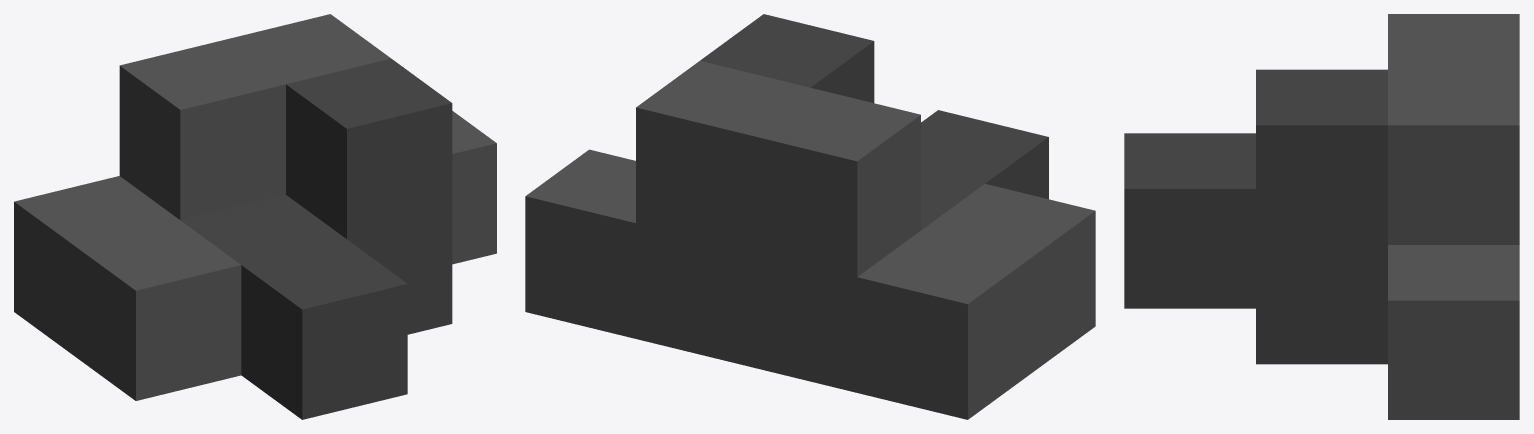
File: gather_rock_scnd.obj
3 views of the same model, side by side, from view 1: azimuth 30°, elevation 25°; view 2: azimuth 150°, elevation 25°; view 3: azimuth 270°, elevation 25° (orthographic). The views are drawn at different scales.
Visible parts, largest first — view 1: gather_rock_scnd; view 2: gather_rock_scnd; view 3: gather_rock_scnd.
Part boxes in pixels (x1,y1,x2,y2): gather_rock_scnd: [14, 14, 496, 419]; gather_rock_scnd: [525, 14, 1095, 419]; gather_rock_scnd: [1124, 14, 1519, 419].
Bounding box in the file's own units: 4 × 2 × 3.
Materials: 1 (1 with a texture image).
